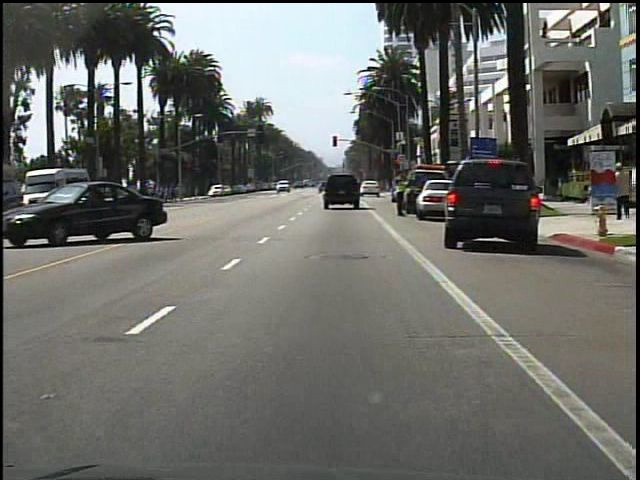person: (610, 160, 633, 225), (390, 170, 409, 219)
